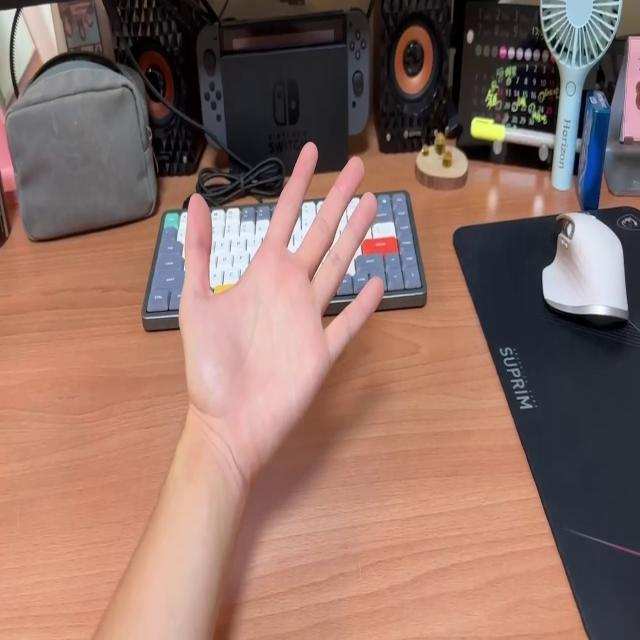keyboard-with-hands: (143, 191, 423, 315)
